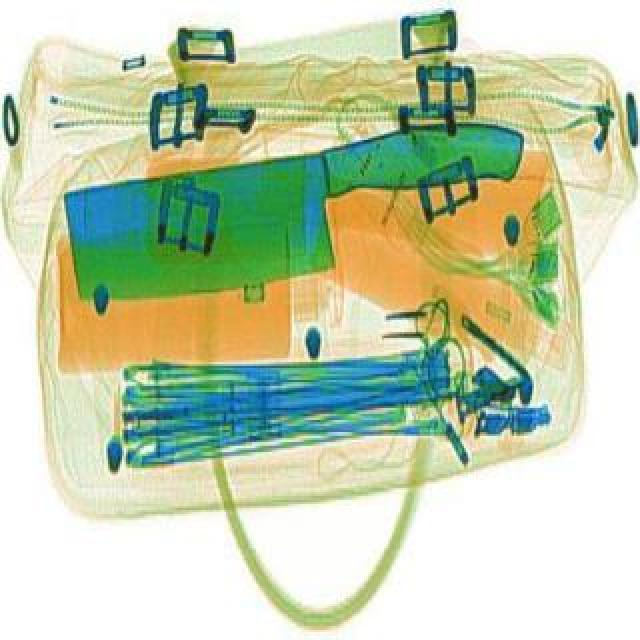knife: (58, 118, 538, 312)
